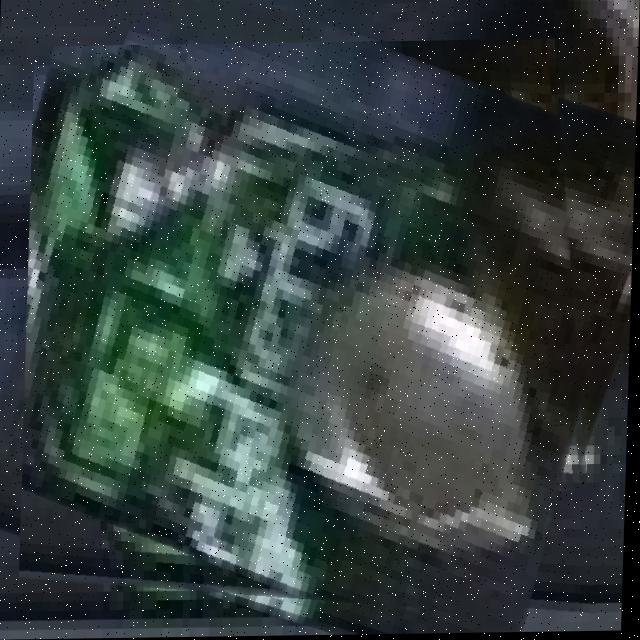litter: (24, 43, 587, 607)
